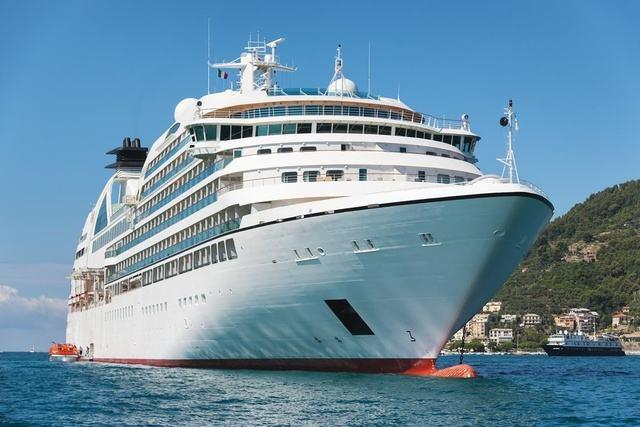otherboat: (45, 339, 82, 364)
youlun: (47, 34, 558, 371), (547, 324, 624, 355)
